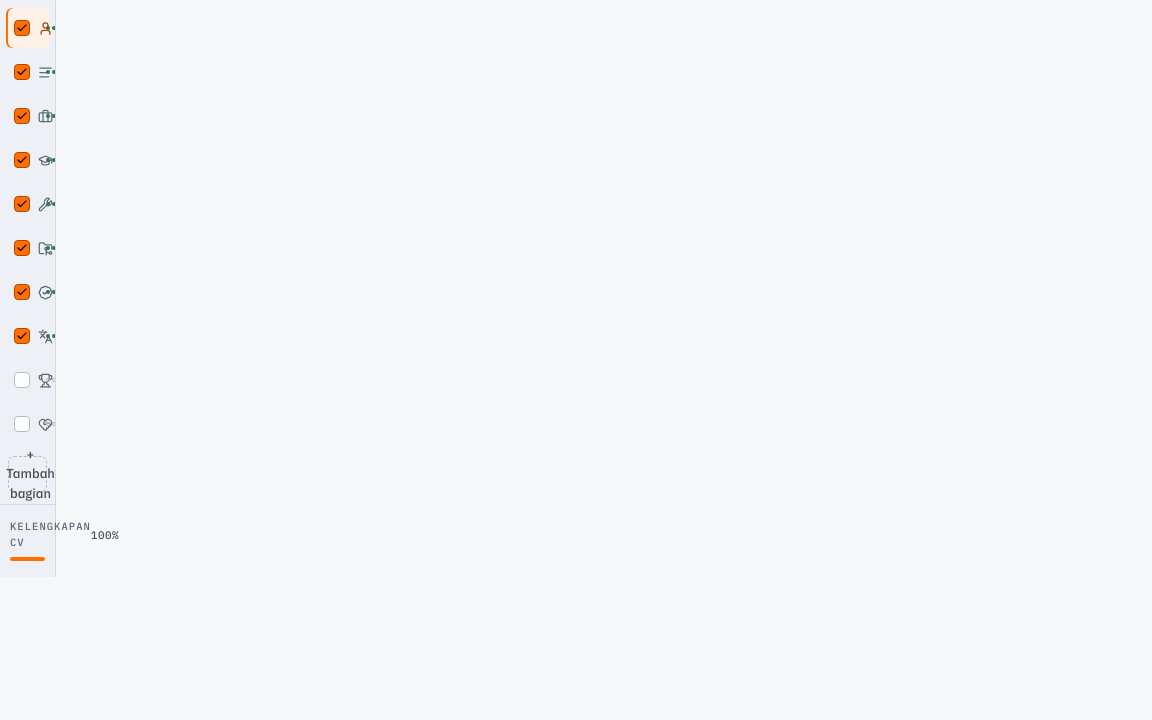
Rail — katalog bagian baru › dialog katalog tertutup oleh Escape
Click the button "+ Tambah bagian": coordinates (28, 474) [8,456,47,492]
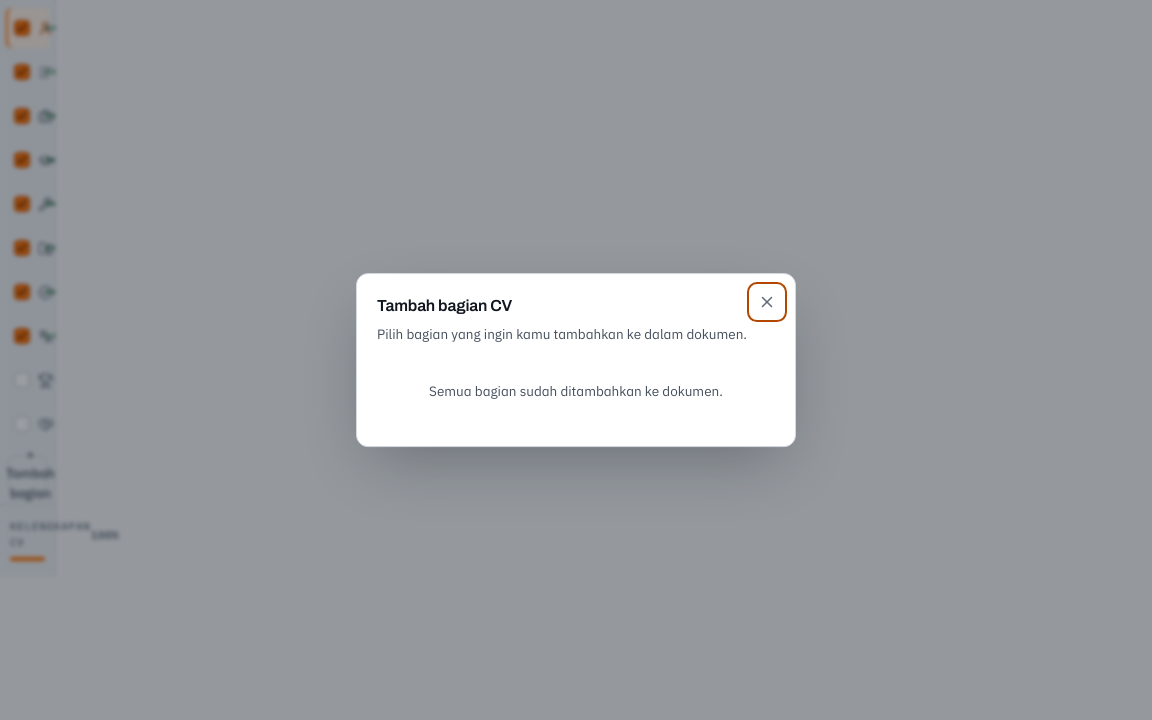
Expected: the dialog is shown, [356,273,796,447]
Press Escape
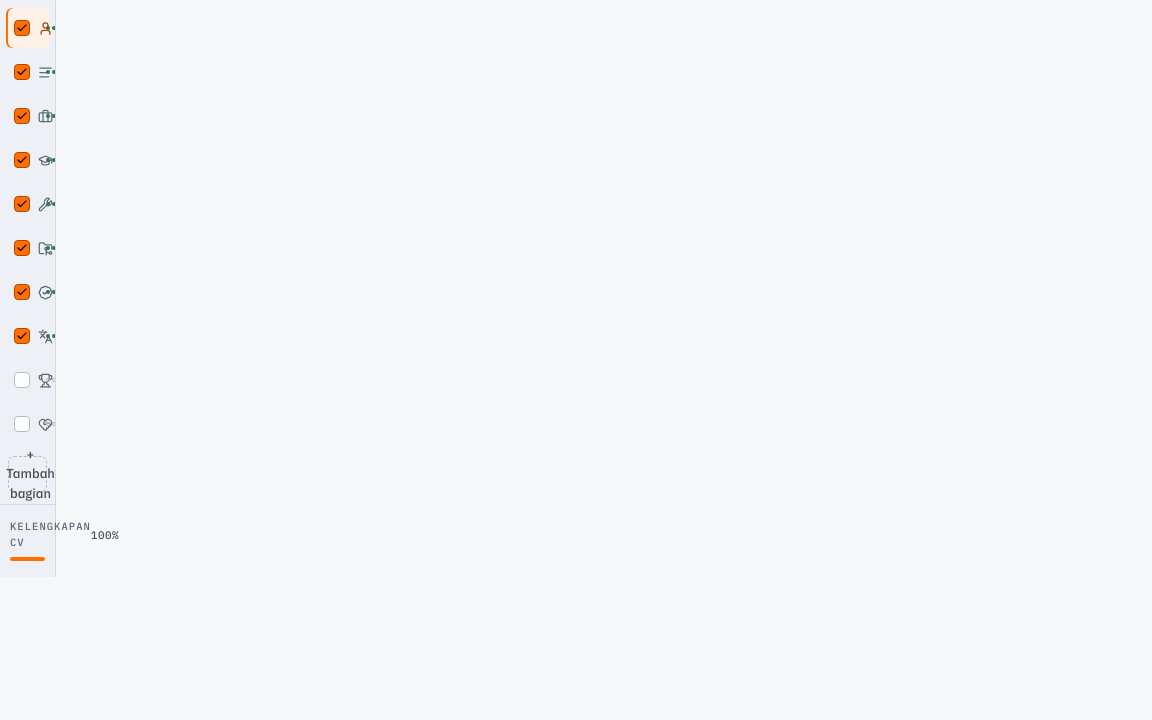
Expected: the dialog is gone
